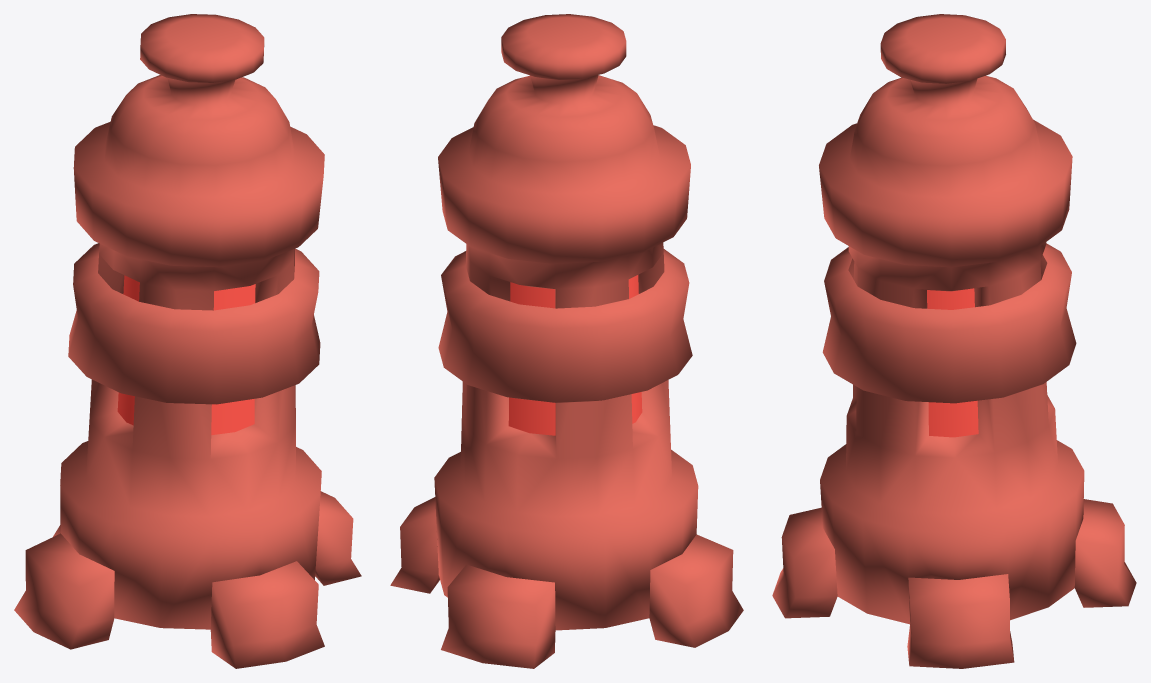
Rendered from medic_p1.fbx.
3 renders of one model, left to right at view 1: azimuth 30°, elevation 25°; view 2: azimuth 150°, elevation 25°; view 3: azimuth 270°, elevation 25°, orthographic.
Visible parts, largest first — view 1: tank_low; view 2: tank_low; view 3: tank_low.
Boxes of the visible parts, <box> form: tank_low: <box>14,14,361,668</box>; tank_low: <box>390,14,743,668</box>; tank_low: <box>772,14,1136,668</box>.
Bounding box in the file's own units: 31.8 × 54.27 × 31.8.
